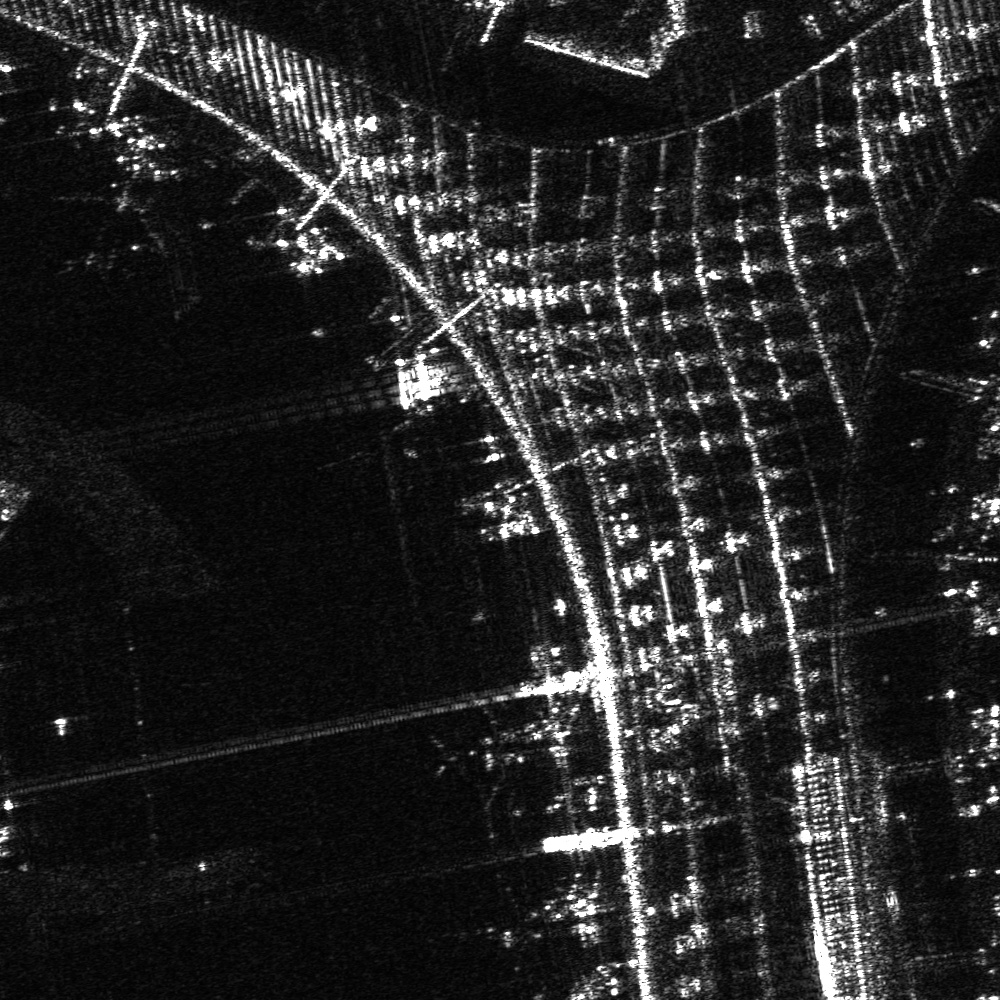Boeing787: (53, 181, 172, 272)
other: (430, 691, 542, 813), (462, 876, 552, 975)
